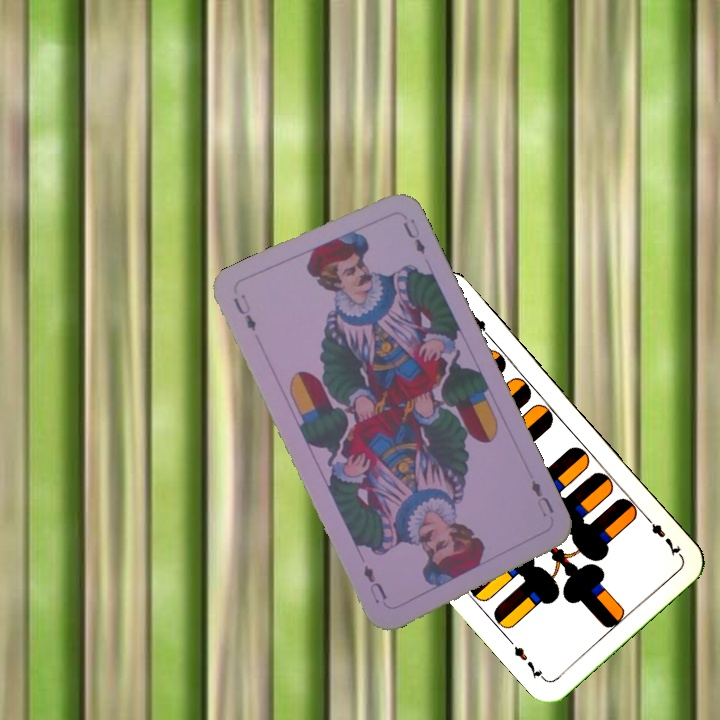E7: (640, 511, 684, 559)
EU: (229, 289, 259, 334), (527, 476, 557, 520)
